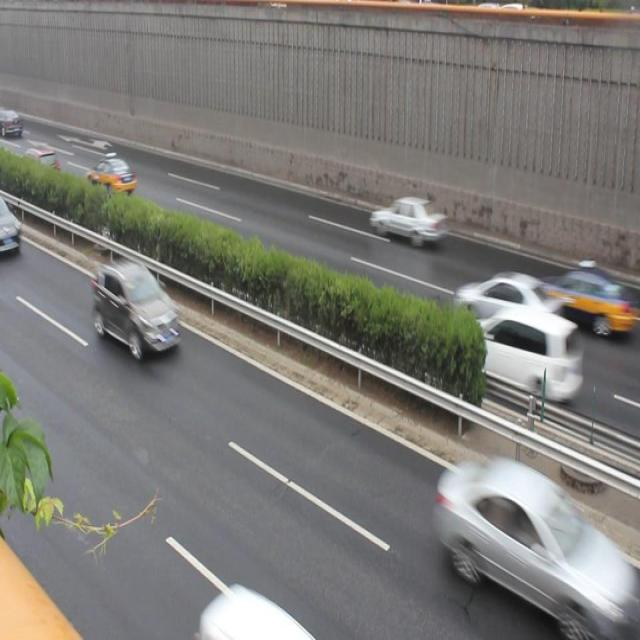car: (437, 455, 605, 615), (452, 308, 581, 401), (91, 258, 180, 354), (452, 269, 562, 343), (200, 582, 306, 640), (536, 264, 619, 327), (370, 194, 447, 249), (84, 156, 136, 197), (17, 147, 62, 187)
